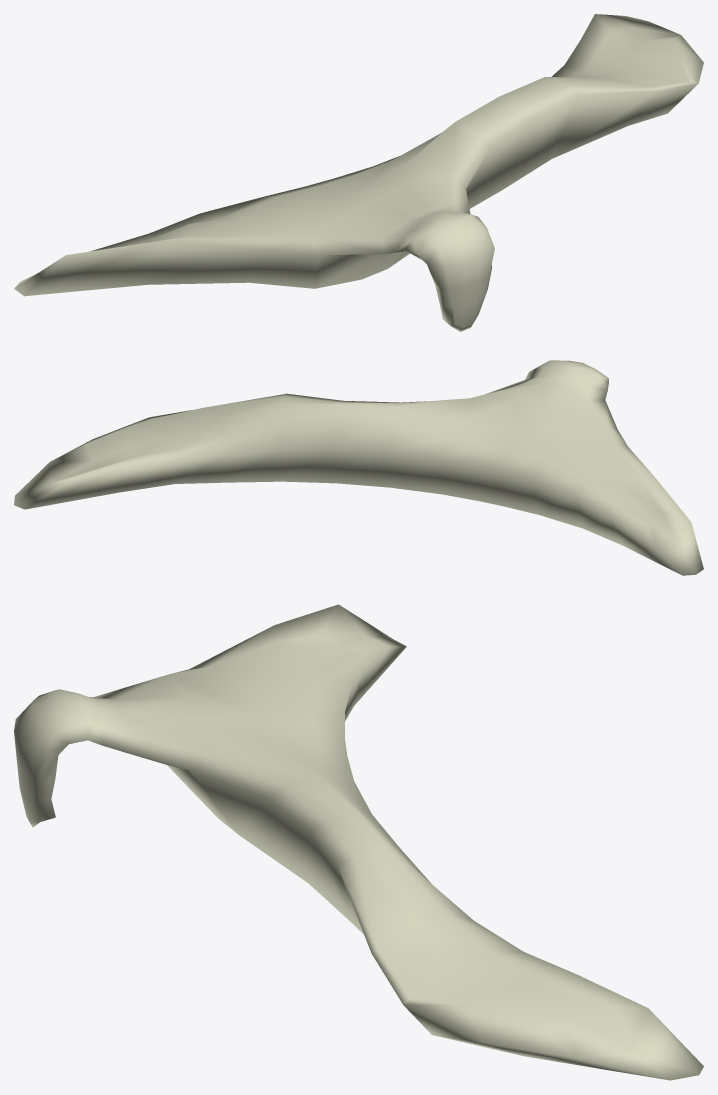
File: sweetmilk.fbx
3 renders of one model, top to bottom at view 1: azimuth 30°, elevation 25°; view 2: azimuth 150°, elevation 25°; view 3: azimuth 270°, elevation 25°, orthographic. The views are drawn at different scales.
Visible parts, largest first — view 1: 빙수바닥.003; view 2: 빙수바닥.003; view 3: 빙수바닥.003.
Boxes of the visible parts, <box> form: 빙수바닥.003: <box>14,14,703,331</box>; 빙수바닥.003: <box>14,360,703,575</box>; 빙수바닥.003: <box>14,604,703,1080</box>.
Size of the model in its own units: 860 by 111 by 567.
